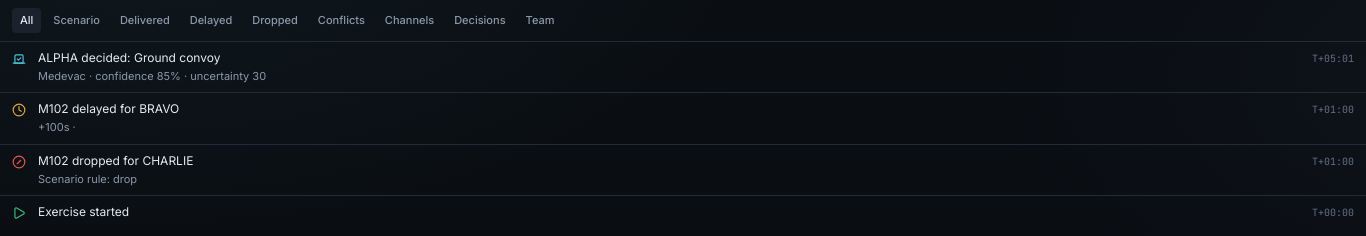
Timeline rendering › filters the live event feed by category
Expected: the text "M102 dropped for CHARLIE" is shown, x1=38 y1=152 x2=193 y2=168
What coordinates should you click on to do the following:
click the button "Decisions"
I would click on:
 (480, 20)
Its box is x1=446 y1=8 x2=514 y2=32.
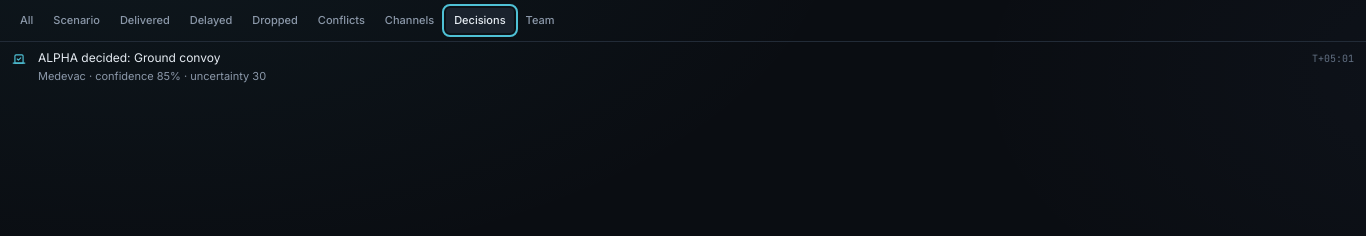
Expected: the text "ALPHA decided: Ground convoy" is shown, x1=38 y1=50 x2=220 y2=66
Now the text "M102 dropped for CHARLIE" is gone
